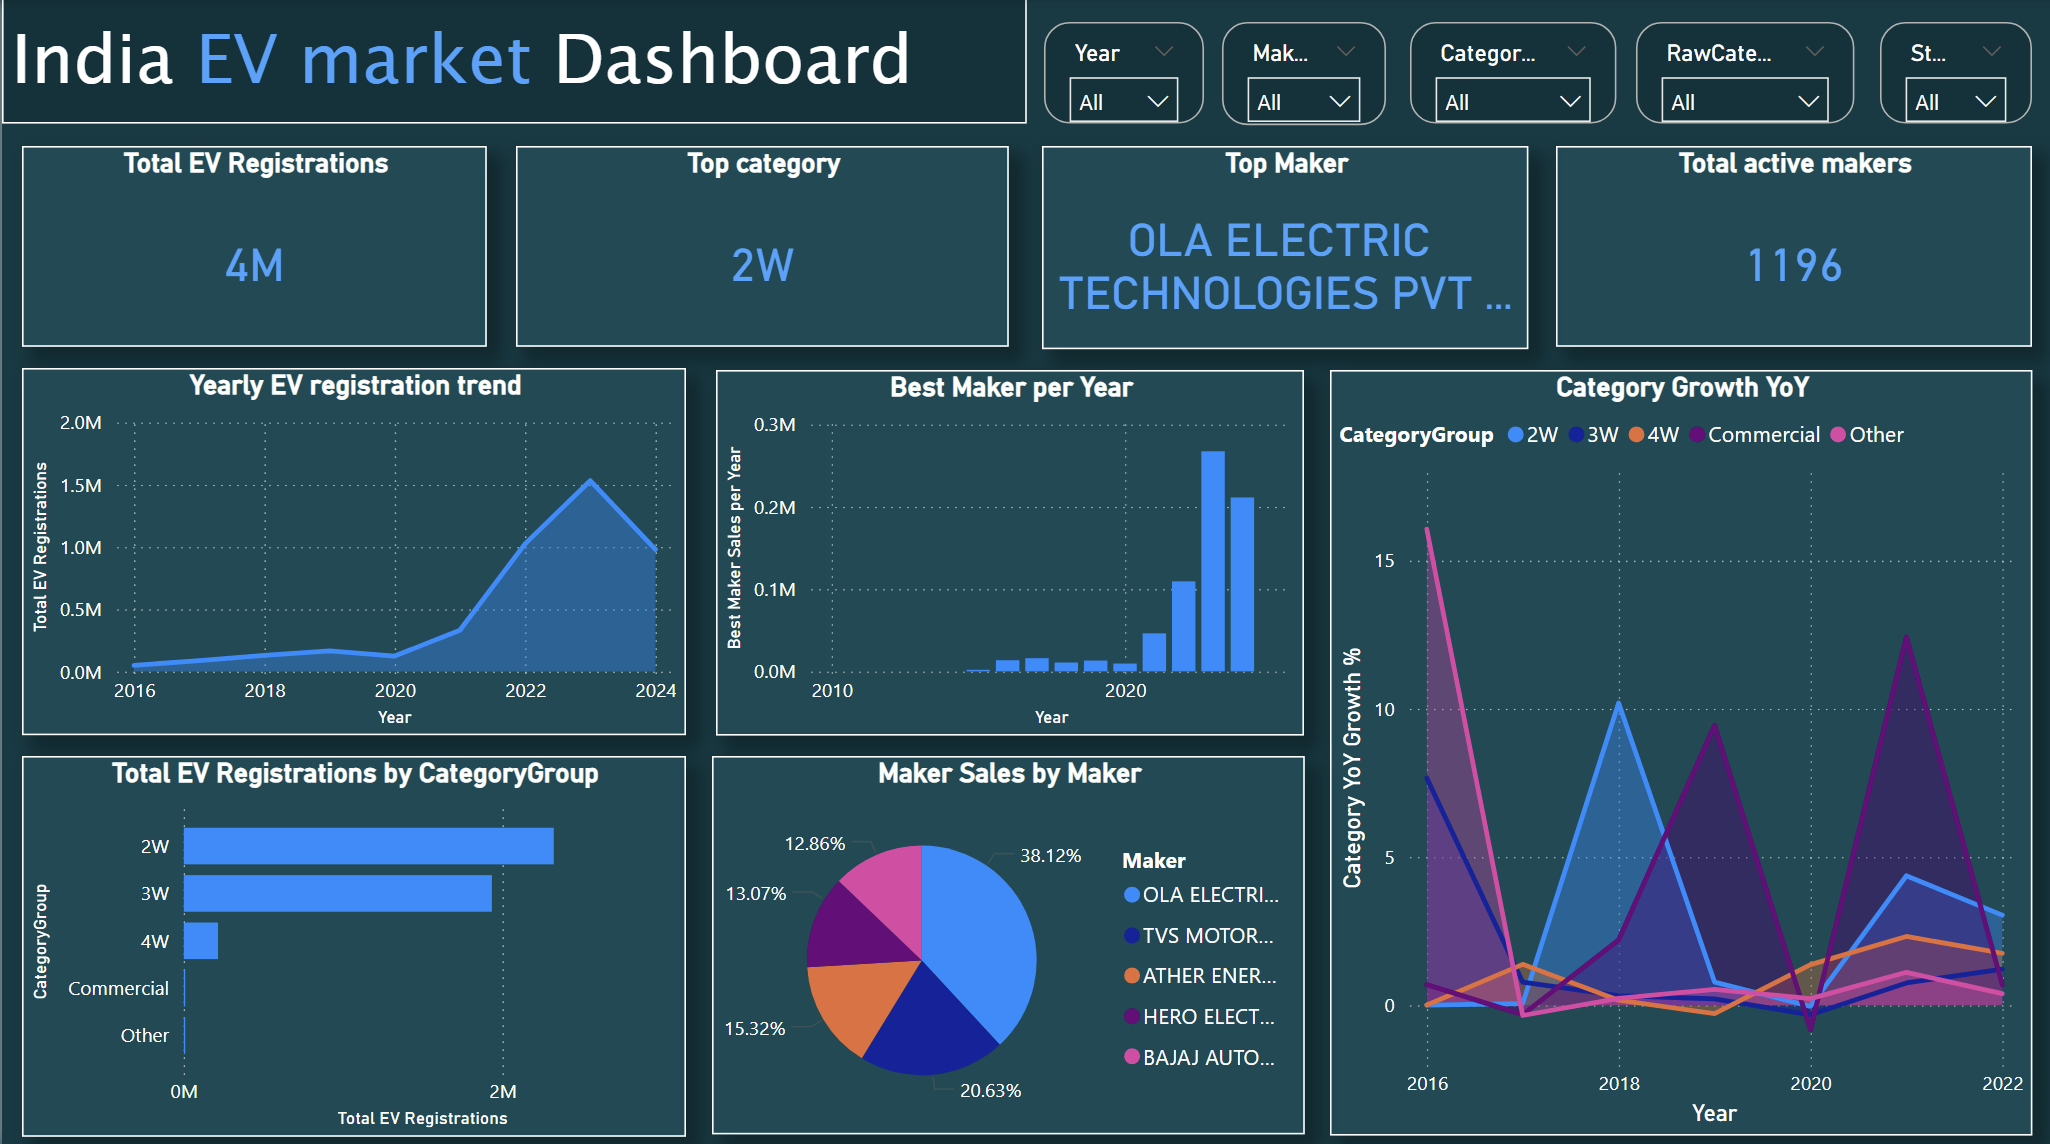

This screenshot's page, from the dashboard's own definition file:
{"tool":"powerbi","page":{"name":"Page 1","canvas":[1280,720],"ordinal":0},"visuals":[{"type":"textbox","box":[0,0,640.5,78.5],"z":0},{"type":"card","title":"Total EV Registrations","fields":{"Values":["Sum(Fact_Category.Registrations)"]},"box":[12.2,91.9,290.5,125.7],"z":1000},{"type":"card","title":"Top category","fields":{"Values":["Fact_Category.Top Category"]},"box":[321.6,91.9,308.1,125.7],"z":2000},{"type":"card","title":"Total active makers","fields":{"Values":["CategoryMap.Total Active Manufacturers"]},"box":[971.6,91.9,297.3,125.7],"z":3000},{"type":"card","title":"Top Maker","fields":{"Values":["CategoryMap.Top Maker"]},"box":[650,91.9,304.1,127],"z":4000},{"type":"stackedAreaChart","title":"Yearly EV registration trend","fields":{"Category":["Fact_Category.Year"],"Y":["CategoryMap.Total EV Registrations"]},"box":[12.2,231.1,414.9,229.7],"z":5000},{"type":"barChart","fields":{"Category":["CategoryMap.CategoryGroup"],"Y":["CategoryMap.Total EV Registrations"]},"box":[12.2,474.3,414.9,237.8],"z":6000},{"type":"areaChart","title":"Category Growth YoY ","fields":{"Category":["Fact_Category.Year"],"Series":["CategoryMap.CategoryGroup"],"Y":["CategoryMap.Category YoY Growth %"]},"box":[829.7,232.4,439.2,478.4],"z":7000},{"type":"clusteredColumnChart","title":"Best Maker per Year","fields":{"Category":["Fact_MakerSales.Year"],"Y":["Fact_MakerSales.Best Maker Sales per Year"]},"box":[445.9,232.4,367.6,228.4],"z":8000},{"type":"pieChart","fields":{"Category":["Fact_MakerSales.Maker"],"Y":["Fact_MakerSales.Maker Sales"]},"box":[443.2,474.3,370.3,236.5],"z":9000},{"type":"slicer","fields":{"Values":["Fact_Category.Year"]},"box":[650.6,15.2,100,63.3],"z":10000},{"type":"slicer","fields":{"Values":["CategoryMap.CategoryGroup"]},"box":[879.7,15.2,129.1,63.3],"z":11000},{"type":"slicer","fields":{"Values":["Fact_Category.RawCategory"]},"box":[1021.5,15.2,136.7,63.3],"z":12000},{"type":"slicer","fields":{"Values":["Fact_MakerSales.Maker"]},"box":[762,15.2,102.5,64.6],"z":13000},{"type":"slicer","fields":{"Values":["Dim_MakerLocation.State"]},"box":[1173.4,15.2,94.9,63.3],"z":14000}]}

Visuals, with their boxes in screenshot pixels (x1, y1, x2, y2), scaled from the page's 1280x720 canvas onto the 2050x1144 screenshot:
textbox: <box>0,0,1026,125</box>
"Total EV Registrations" card: <box>20,146,485,346</box>
"Top category" card: <box>515,146,1009,346</box>
"Total active makers" card: <box>1556,146,2032,346</box>
"Top Maker" card: <box>1041,146,1528,348</box>
"Yearly EV registration trend" stackedAreaChart: <box>20,367,684,732</box>
barChart - CategoryMap.CategoryGroup x CategoryMap.Total EV Registrations: <box>20,754,684,1131</box>
"Category Growth YoY " areaChart: <box>1329,369,2032,1129</box>
"Best Maker per Year" clusteredColumnChart: <box>714,369,1303,732</box>
pieChart - Fact_MakerSales.Maker x Fact_MakerSales.Maker Sales: <box>710,754,1303,1129</box>
slicer - Fact_Category.Year: <box>1042,24,1202,125</box>
slicer - CategoryMap.CategoryGroup: <box>1409,24,1616,125</box>
slicer - Fact_Category.RawCategory: <box>1636,24,1855,125</box>
slicer - Fact_MakerSales.Maker: <box>1220,24,1385,127</box>
slicer - Dim_MakerLocation.State: <box>1879,24,2031,125</box>
